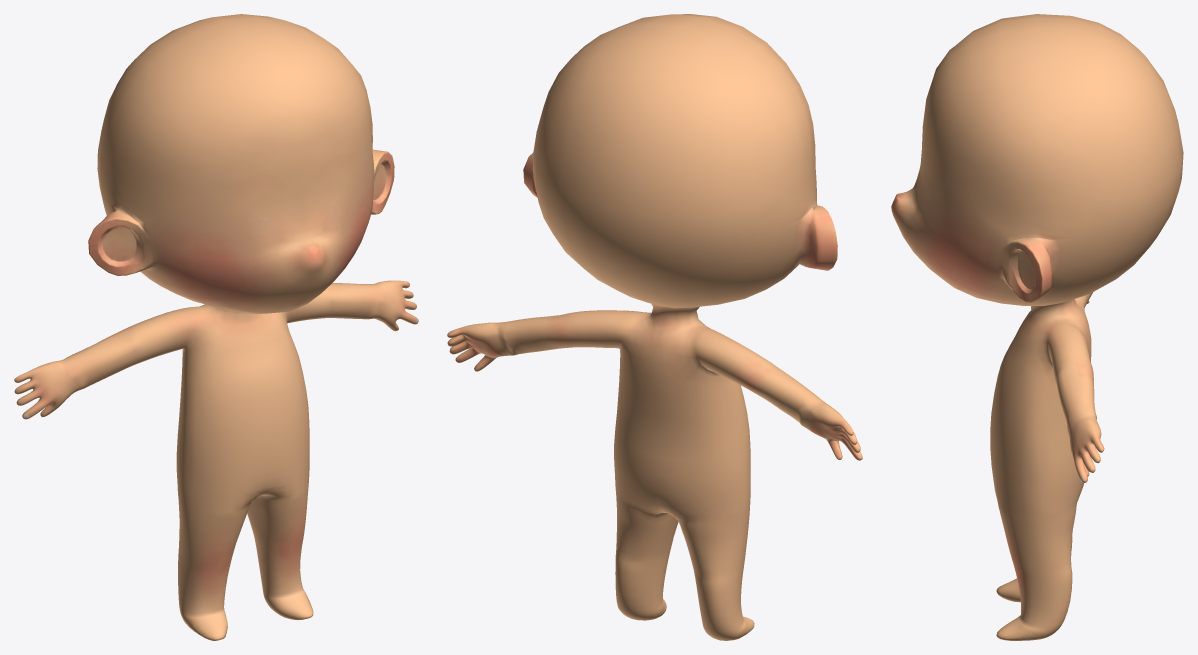
File: char_turbosmooth.FBX
3 renders of one model, left to right at view 1: azimuth 30°, elevation 25°; view 2: azimuth 150°, elevation 25°; view 3: azimuth 270°, elevation 25°, orthographic. The views are drawn at different scales.
Visible parts, largest first — view 1: default001; view 2: default001; view 3: default001.
Boxes of the visible parts, x1=… form: default001: x1=14, y1=14, x2=418, y2=640; default001: x1=447, y1=14, x2=862, y2=640; default001: x1=891, y1=14, x2=1183, y2=640.
Size of the model in its own units: 22.78 by 31.96 by 14.38.
1 material, 1 textured.
